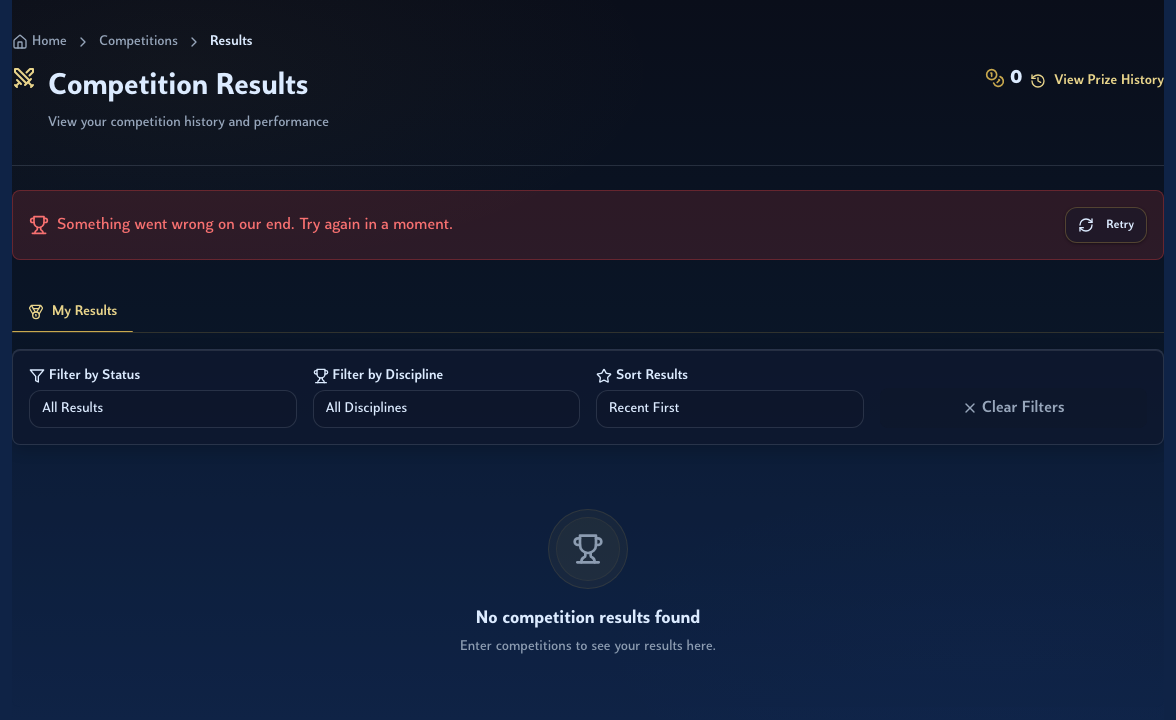
CompetitionResultsPage › User Stats Display › error state shows error message with retry
Expected: the message "Something went wrong on our end. Try again in a moment. Retry" is shown, [12,190,1164,260]
Expected: the text "Something went wrong on our end. Try again in a moment." is shown, [57,213,453,237]
What coordinates should you click on to do the following:
click the button "Retry"
I would click on:
 (1106, 225)
Its box is [1065,207,1147,243].
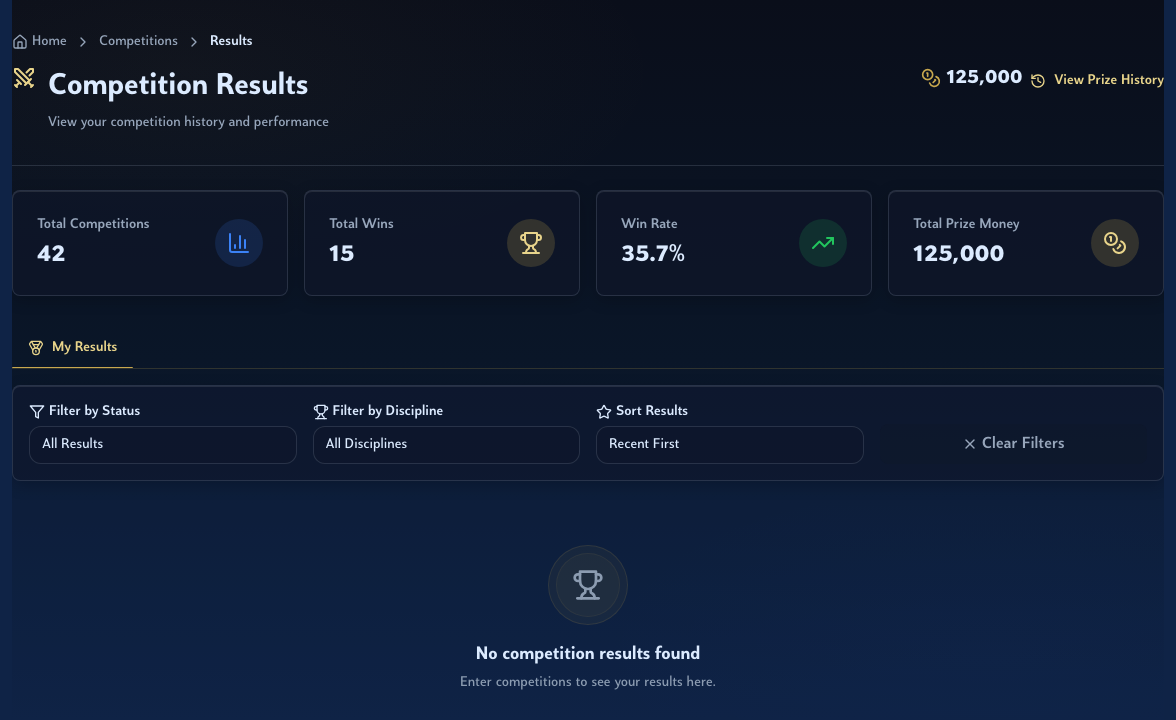
Expected: the message with test id "stats-error" is gone
Expected: the element with test id "stat-total-competitions" is shown, [12,190,288,296]
